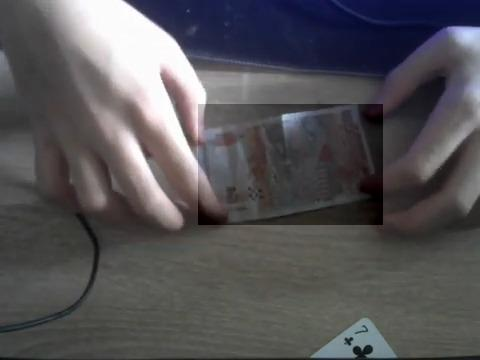5leva: (198, 104, 383, 225)
